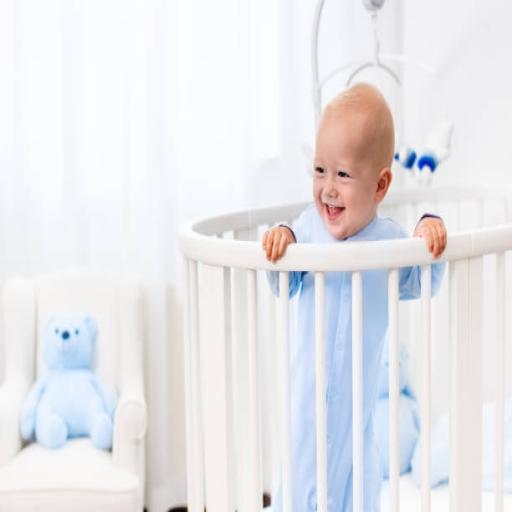baby: (262, 83, 406, 261)
crib: (180, 186, 511, 511)
